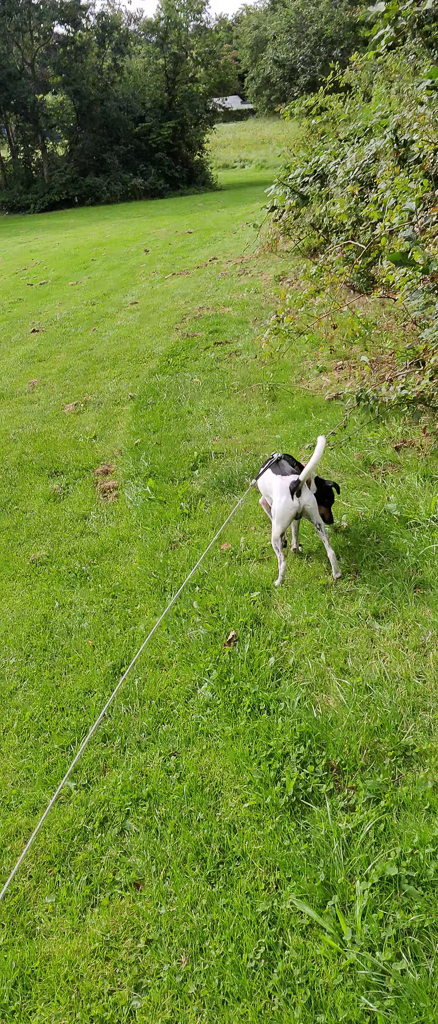Dog: (238, 429, 358, 592)
